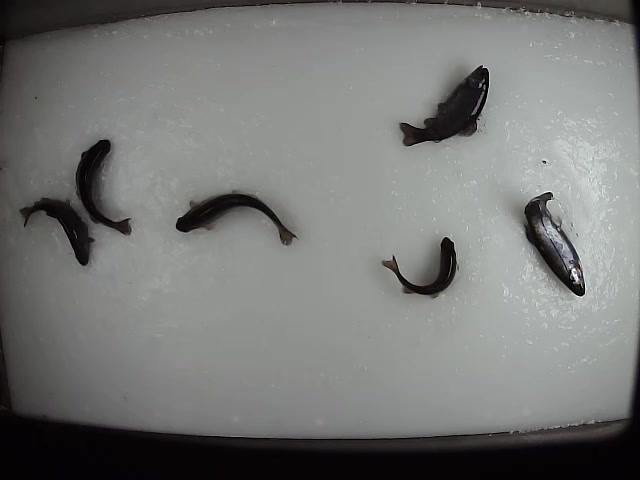fish: (396, 62, 491, 148), (172, 187, 299, 249), (521, 188, 586, 298), (71, 137, 134, 236), (17, 190, 96, 267), (380, 232, 461, 297)
